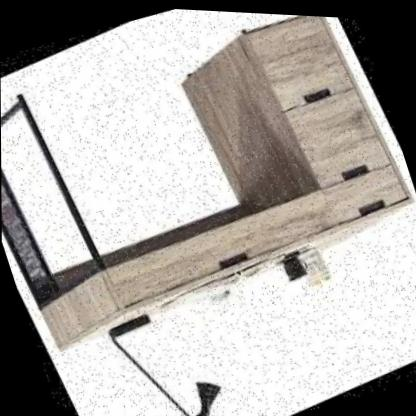Table: (0, 0, 416, 395)
